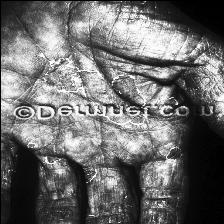Non-Cancerous Skin Condition: (42, 58, 84, 90)
